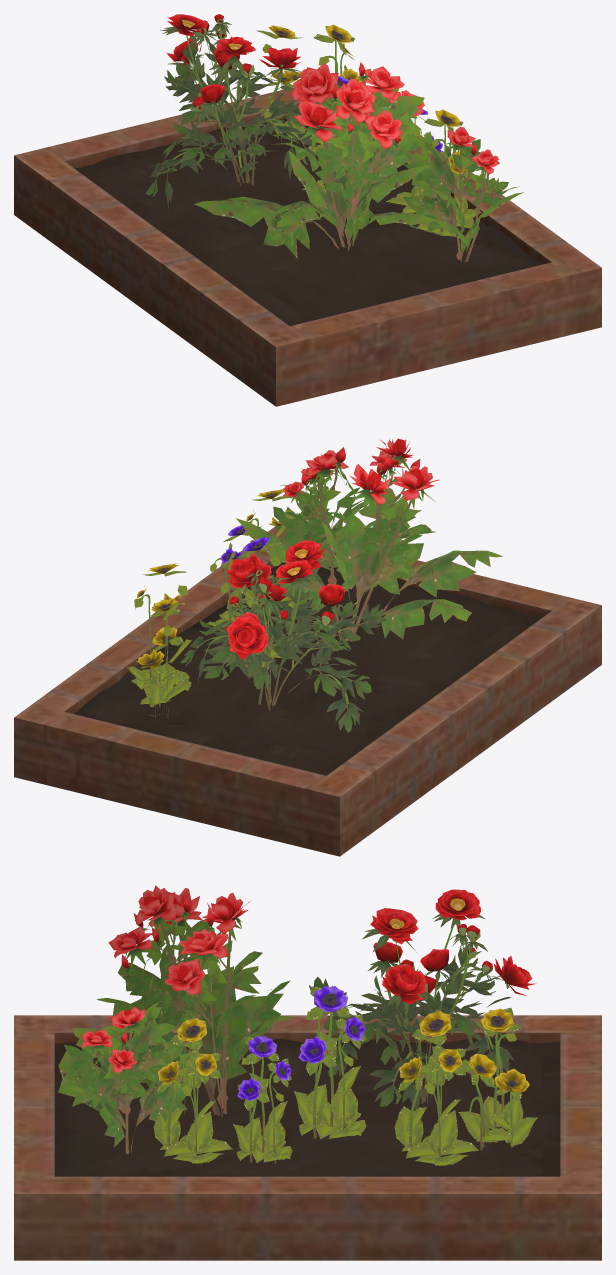
File: SM_Flowerbed_521e82.glb
3 views of the same model, one above another, from view 1: azimuth 30°, elevation 25°; view 2: azimuth 150°, elevation 25°; view 3: azimuth 270°, elevation 25° (orthographic). The views are drawn at different scales.
Size of the model in its own units: 1.63 by 1.17 by 2.28.
Materials: 2 (2 with a texture image).
